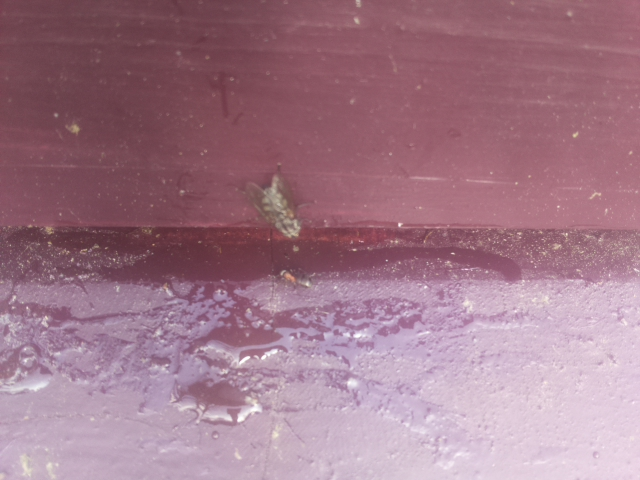ant: (246, 170, 312, 238), (0, 343, 48, 387), (276, 267, 319, 292)
